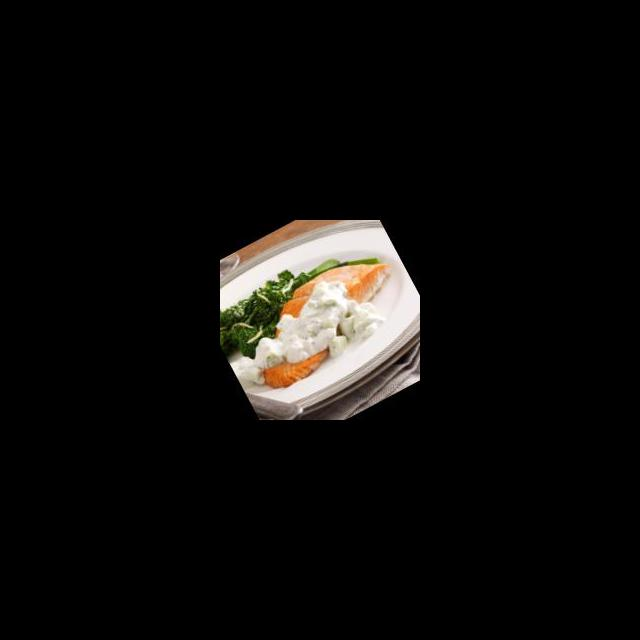ca hoi: (231, 240, 418, 396)
